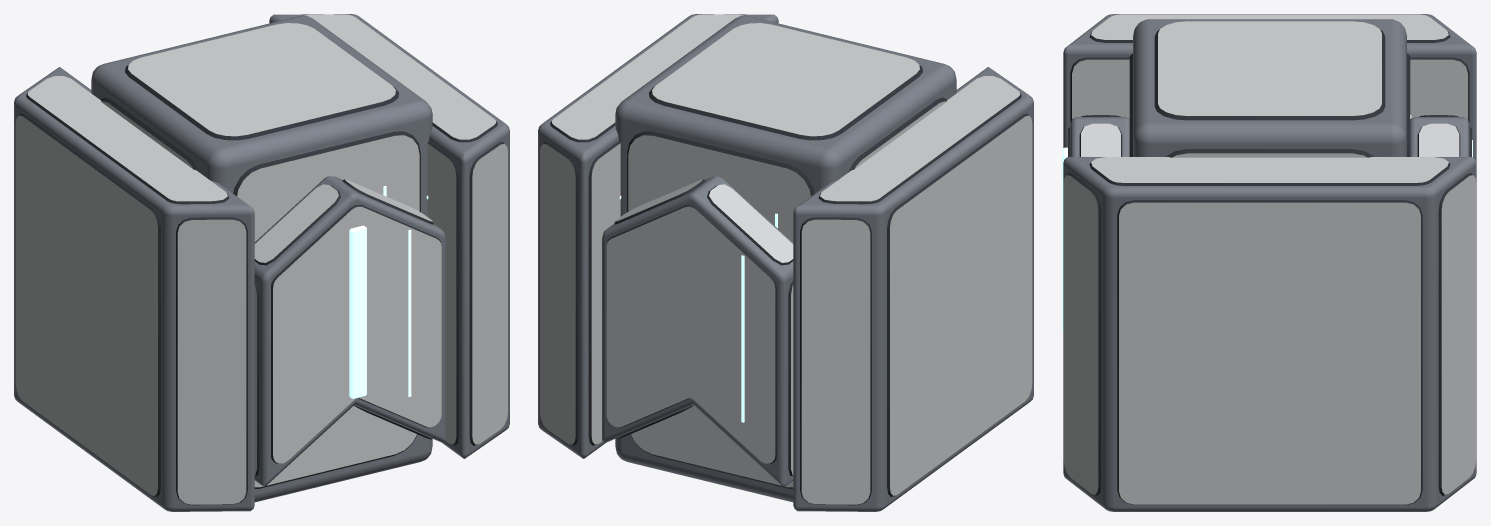
File: R4X_HullBooster.fbx
3 renders of one model, left to right at view 1: azimuth 30°, elevation 25°; view 2: azimuth 150°, elevation 25°; view 3: azimuth 270°, elevation 25°, orthographic. The views are drawn at different scales.
Visible parts, largest first — view 1: R4X_HullBooster_Body; view 2: R4X_HullBooster_Body; view 3: R4X_HullBooster_Body.
Part boxes in pixels (left/top/right/bottom): R4X_HullBooster_Body: left=14, top=14, right=509, bottom=511; R4X_HullBooster_Body: left=538, top=14, right=1033, bottom=511; R4X_HullBooster_Body: left=1062, top=14, right=1476, bottom=511.
Bounding box in the file's own units: 0.52 × 0.52 × 0.5028.
